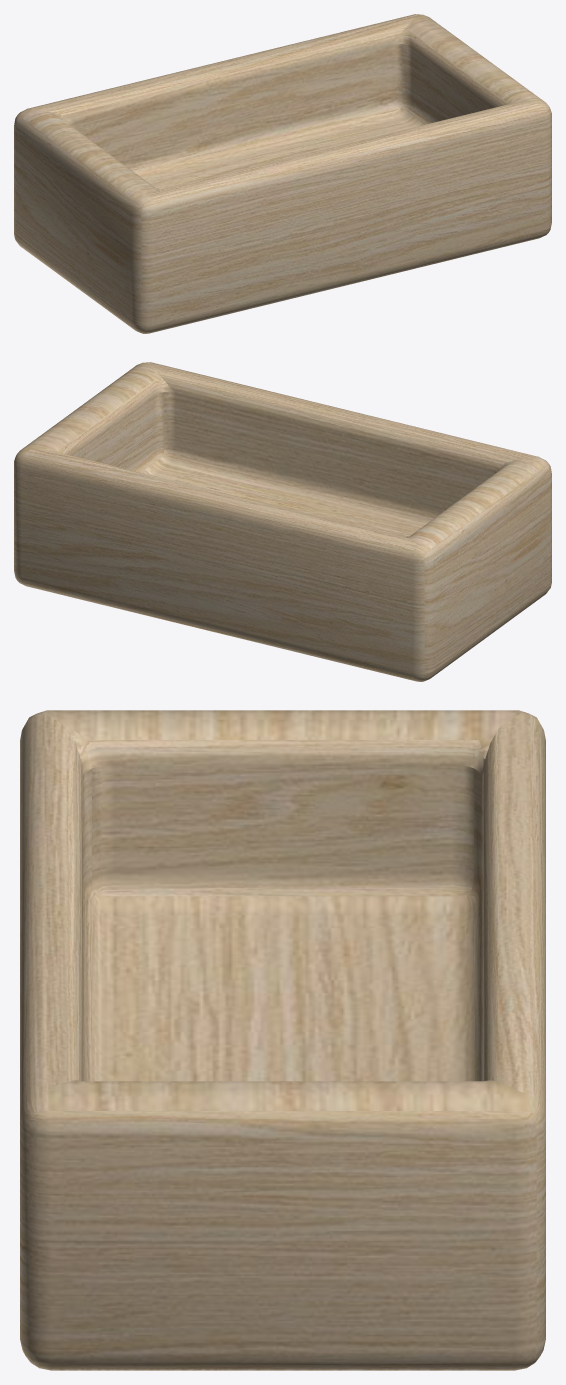
Rendered from Bak Mandi.fbx.
3 views of the same model, one above another, from view 1: azimuth 30°, elevation 25°; view 2: azimuth 150°, elevation 25°; view 3: azimuth 270°, elevation 25° (orthographic). The views are drawn at different scales.
Visible parts, largest first — view 1: Bak Mandi Spa; view 2: Bak Mandi Spa; view 3: Bak Mandi Spa.
Part boxes in pixels (box(x1,y1,x2,y2)): Bak Mandi Spa: box(14, 14, 551, 333); Bak Mandi Spa: box(14, 362, 551, 681); Bak Mandi Spa: box(20, 710, 545, 1370).
Bounding box in the file's own units: 245 × 76.66 × 133.
